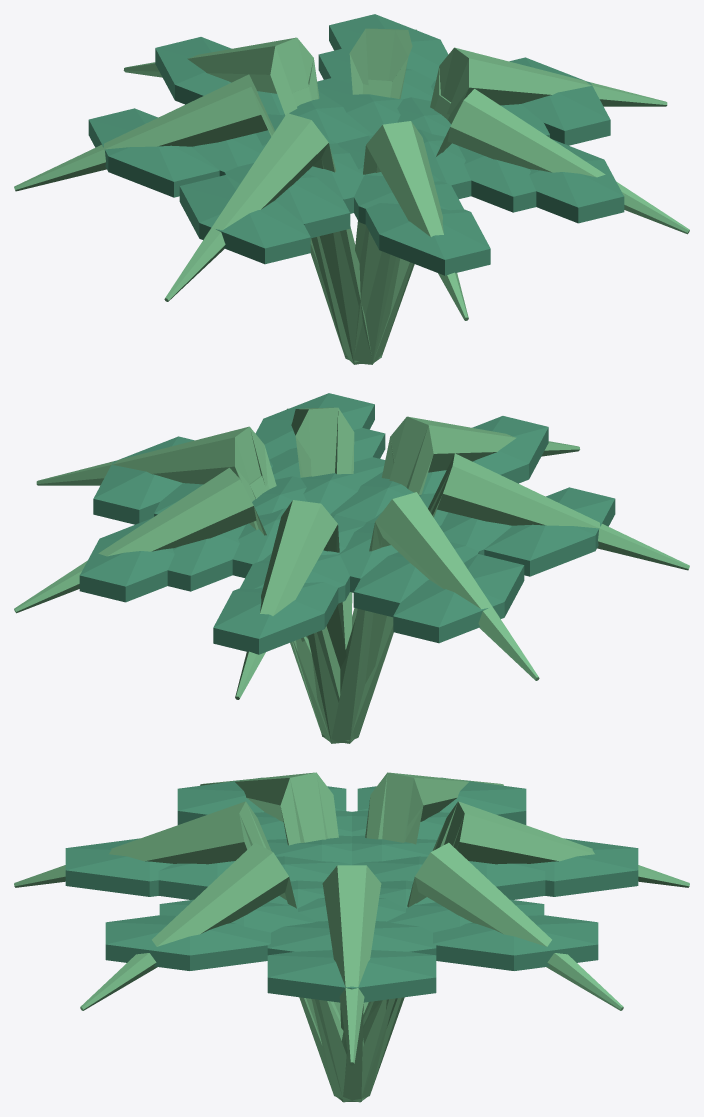
The model's file is fern.obj.
3 renders of one model, top to bottom at view 1: azimuth 30°, elevation 25°; view 2: azimuth 150°, elevation 25°; view 3: azimuth 270°, elevation 25°, orthographic.
Parts seen in each view (by area): view 1: fern; view 2: fern; view 3: fern.
Boxes of the visible parts, left/top/right/bottom form: fern: left=14, top=14, right=689, bottom=364; fern: left=14, top=393, right=689, bottom=743; fern: left=14, top=772, right=689, bottom=1102.
Size of the model in its own units: 3.81 by 1.78 by 3.91.
